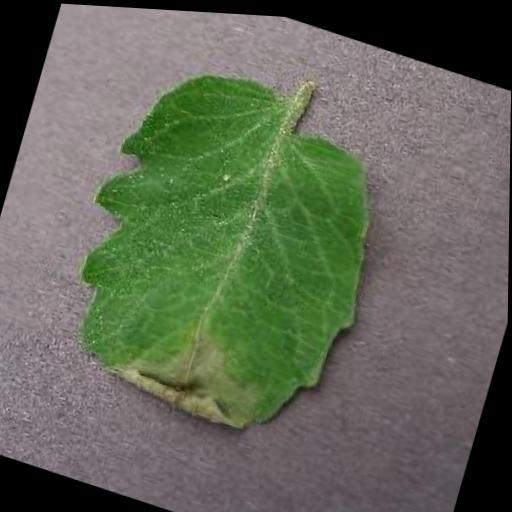Late Blight: (38, 30, 409, 462)
